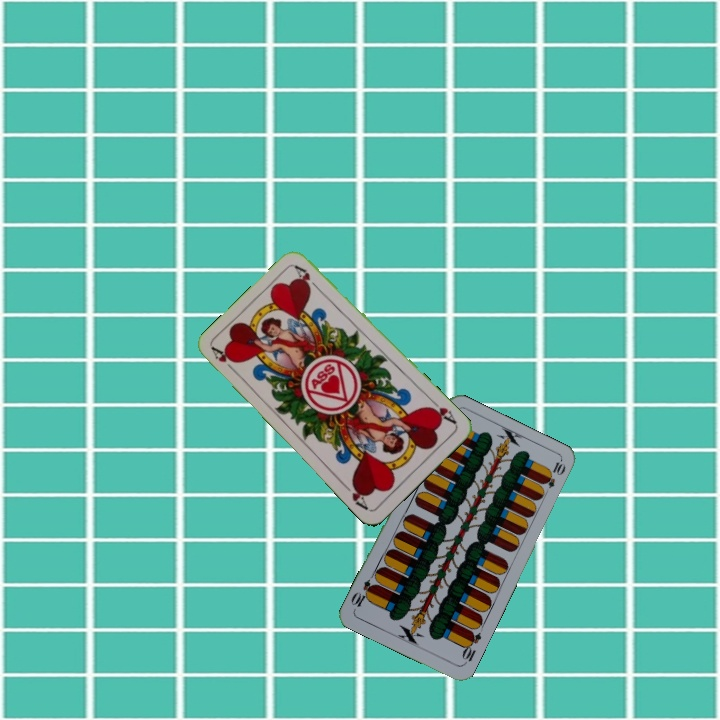E10: (458, 627, 484, 667)
HA: (424, 395, 459, 427), (208, 343, 240, 377)
